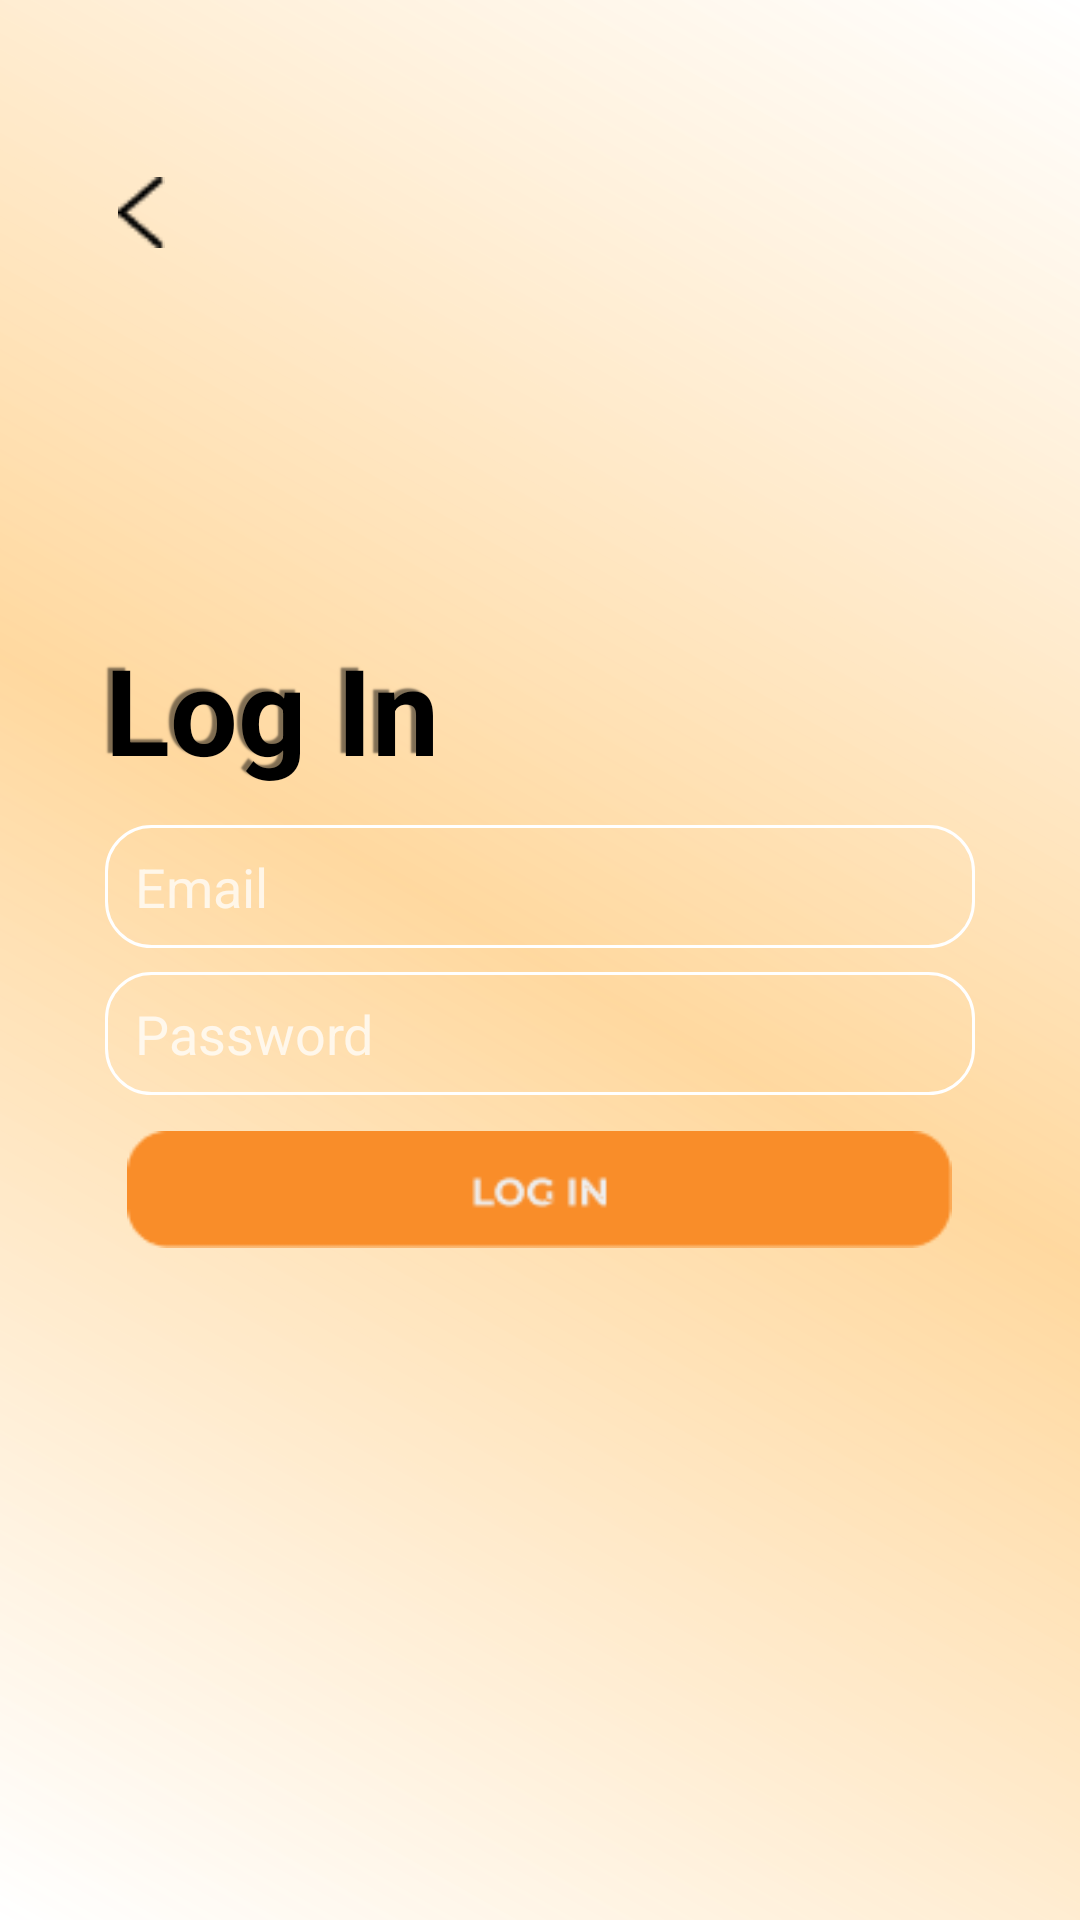

Icons on this 1080 x 1920 Android screen, each with its box as (x1, y1, x2, y2):
back: (118, 177, 165, 248)
